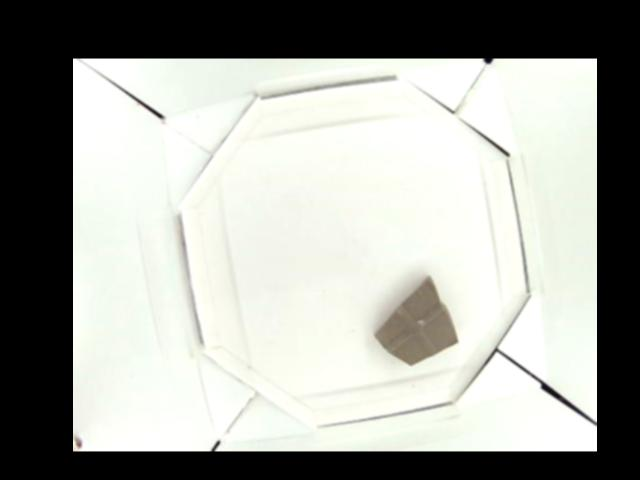China: (376, 274, 460, 363)
